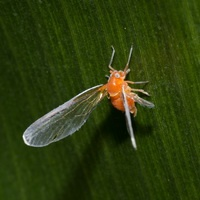insect: (23, 46, 153, 148)
